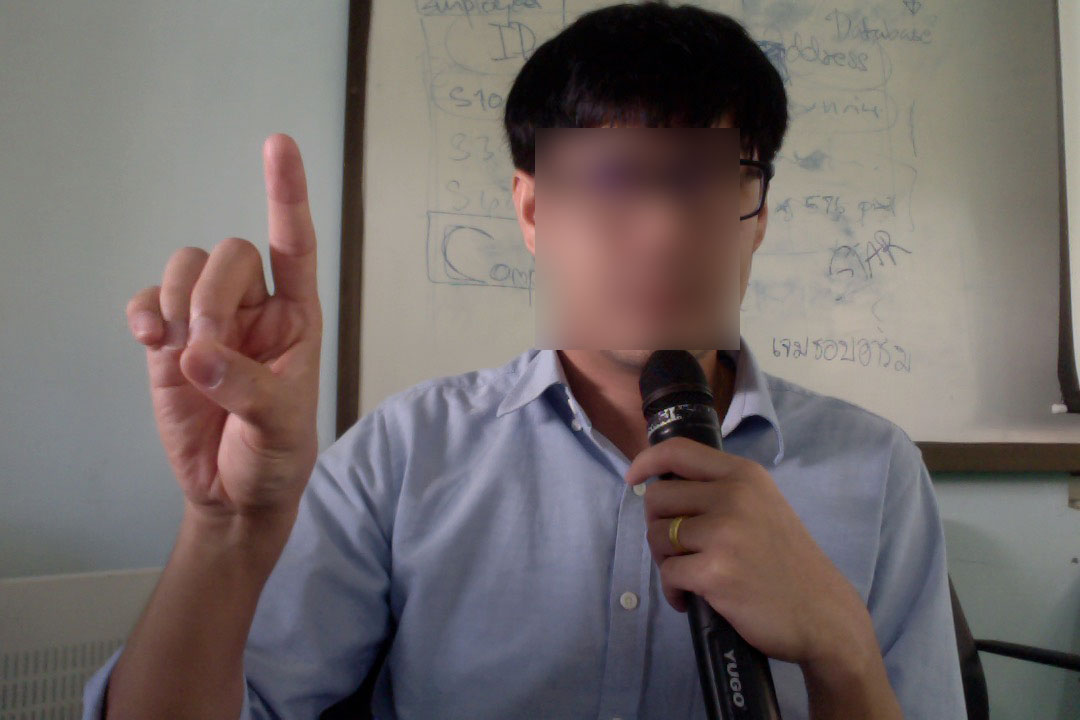dor: (115, 125, 331, 551)
